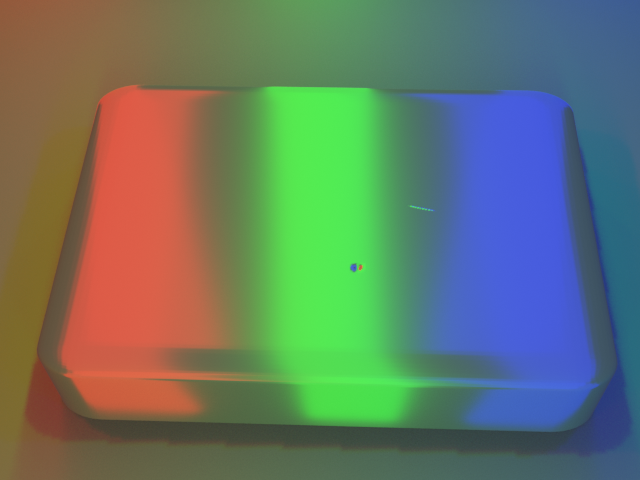dent: (341, 252, 375, 284)
scratch: (398, 184, 470, 225)
